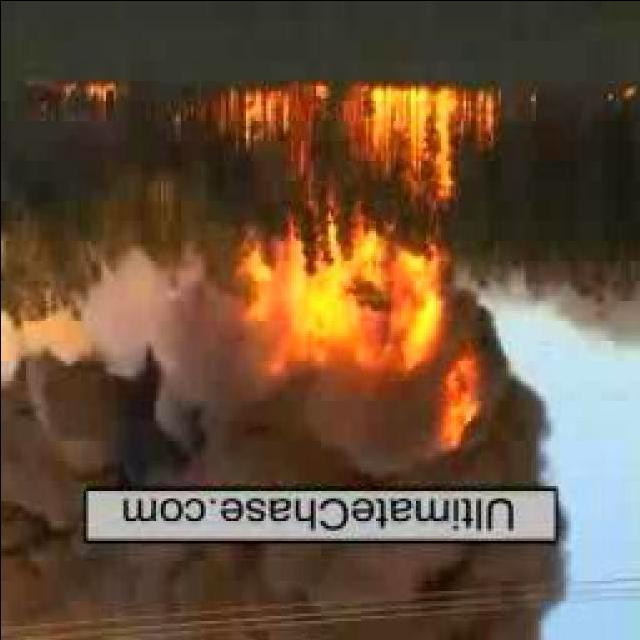Fire: (190, 83, 498, 217), (214, 234, 453, 378), (436, 354, 489, 444), (56, 80, 121, 116)
